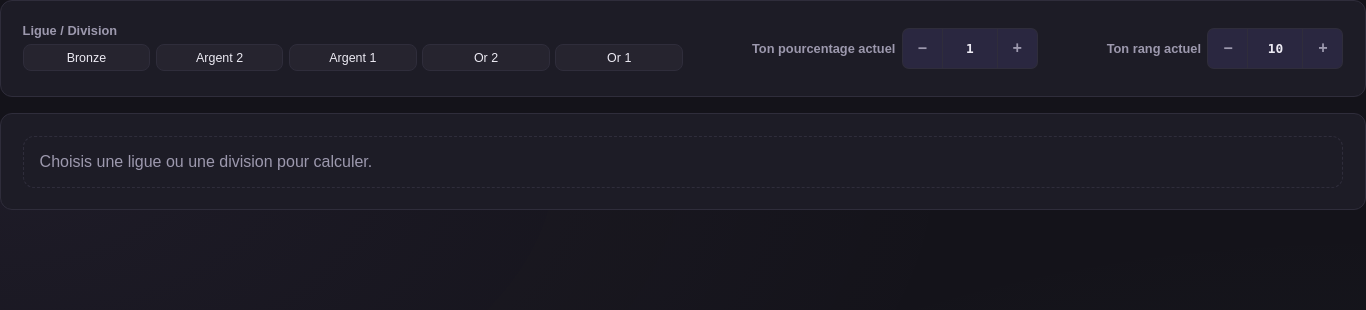
Bloc 108/C+G: what the public page shows of the ladder › keeps an active but empty entry visible, with a 'no data yet' state
The image size is (1366, 310).
Click the button "Argent 1" at (353, 58), box [289,44,417,71]
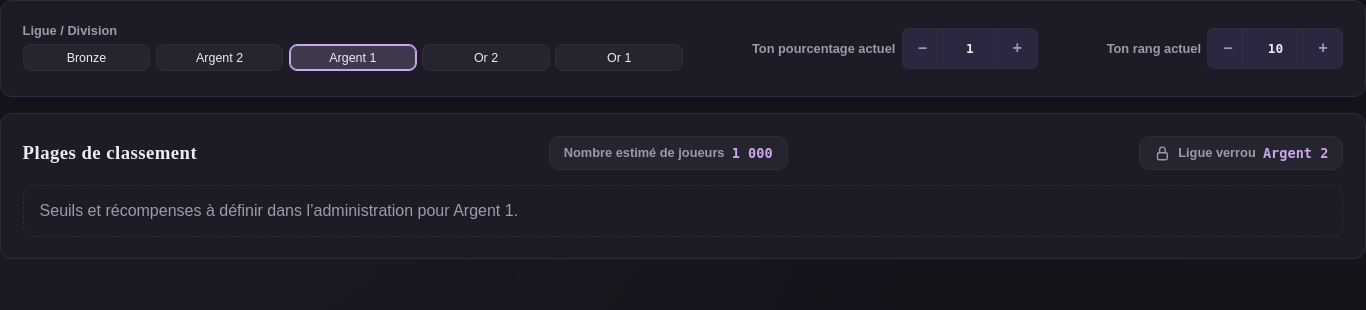
Now the text "à définir dans l’administration pour Argent 1" is shown, box [40,202,518,219]
